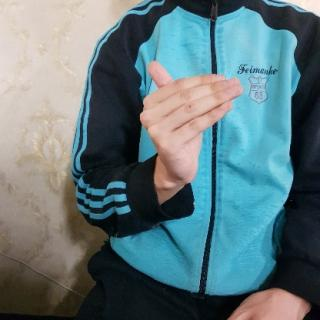KHAA: (140, 56, 261, 187)
